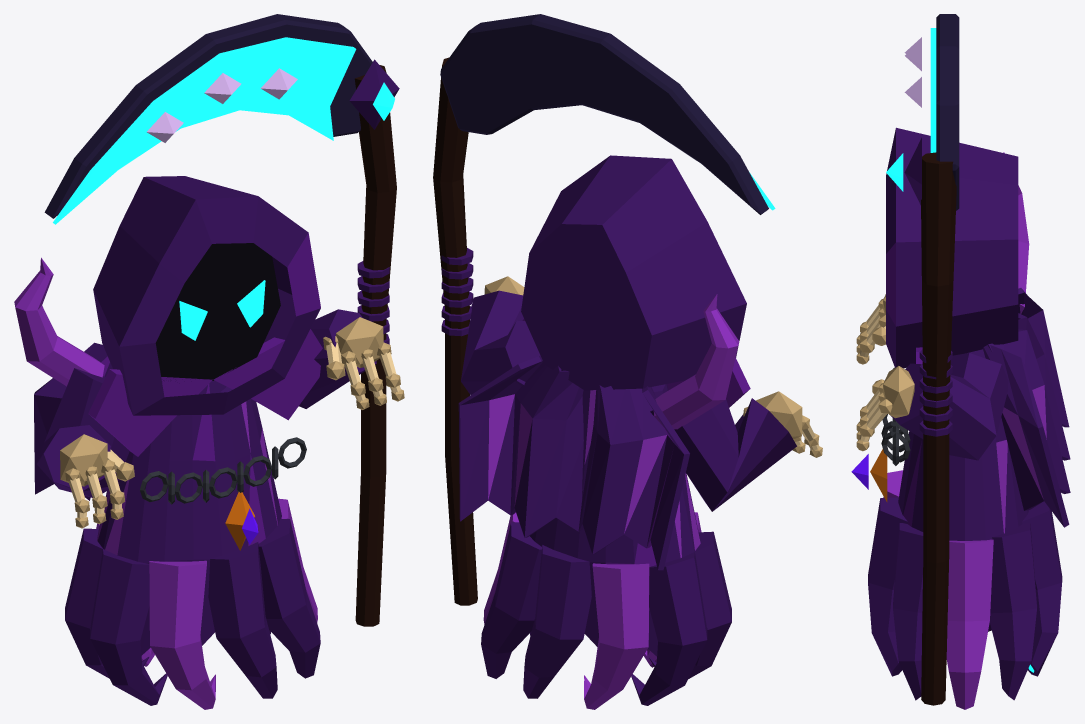
File: WraithReaper.fbx
3 renders of one model, left to right at view 1: azimuth 30°, elevation 25°; view 2: azimuth 150°, elevation 25°; view 3: azimuth 270°, elevation 25°, orthographic.
Visible parts, largest first — view 1: Deep faceted open hood, Spectral draped robe, Cyan scythe cutting edge, Gnarled scythe shaft, Recessed featureless face, Great crescent scythe blade, Ragged robe wisp6, Ragged robe wisp5, Ragged robe wisp7, Ragged robe wisp8, Sleeve-1, Left floating soul curl (+15 smaller); view 2: Deep faceted open hood, Ragged shoulder shawl, Great crescent scythe blade, Gnarled scythe shaft, Sleeve-1, Ragged robe wisp3, Ragged robe wisp4, Ragged robe wisp2, Spectral draped robe, Ragged robe wisp1, Sleeve1, Left floating soul curl (+3 smaller); view 3: Deep faceted open hood, Gnarled scythe shaft, Ragged shoulder shawl, Spectral draped robe, Ragged robe wisp0, Ragged robe wisp1, Sleeve1, Ragged robe wisp8, Ragged robe wisp7, Ragged robe wisp2, Great crescent scythe blade, Bone palm1 (+7 smaller).
Part boxes in pixels (x1=…): Deep faceted open hood: x1=93, y1=176, x2=320, y2=415; Spectral draped robe: x1=97, y1=380, x2=281, y2=655; Cyan scythe cutting edge: x1=53, y1=37, x2=356, y2=224; Gnarled scythe shaft: x1=354, y1=65, x2=396, y2=626; Recessed featureless face: x1=155, y1=243, x2=280, y2=380; Great crescent scythe blade: x1=44, y1=14, x2=372, y2=218; Ragged robe wisp6: x1=149, y1=560, x2=215, y2=709; Ragged robe wisp5: x1=90, y1=549, x2=167, y2=705; Ragged robe wisp7: x1=208, y1=542, x2=277, y2=698; Ragged robe wisp8: x1=258, y1=519, x2=320, y2=678; Sleeve-1: x1=37, y1=368, x2=129, y2=497; Left floating soul curl: x1=14, y1=257, x2=104, y2=386; Deep faceted open hood: x1=521, y1=155, x2=746, y2=390; Ragged shoulder shawl: x1=458, y1=355, x2=689, y2=570; Great crescent scythe blade: x1=440, y1=14, x2=768, y2=214; Gnarled scythe shaft: x1=433, y1=57, x2=477, y2=605; Sleeve-1: x1=650, y1=385, x2=796, y2=511; Ragged robe wisp3: x1=584, y1=563, x2=649, y2=709; Ragged robe wisp4: x1=631, y1=552, x2=707, y2=705; Ragged robe wisp2: x1=523, y1=545, x2=591, y2=698; Spectral draped robe: x1=530, y1=384, x2=700, y2=656; Ragged robe wisp1: x1=481, y1=522, x2=541, y2=678; Sleeve1: x1=461, y1=290, x2=540, y2=394; Left floating soul curl: x1=653, y1=294, x2=739, y2=429; Deep faceted open hood: x1=886, y1=127, x2=1018, y2=368; Gnarled scythe shaft: x1=921, y1=152, x2=956, y2=705; Ragged shoulder shawl: x1=982, y1=288, x2=1070, y2=527; Spectral draped robe: x1=898, y1=349, x2=1028, y2=540; Ragged robe wisp0: x1=946, y1=539, x2=993, y2=709; Ragged robe wisp1: x1=989, y1=523, x2=1037, y2=700; Sleeve1: x1=890, y1=353, x2=1008, y2=460; Ragged robe wisp8: x1=893, y1=523, x2=923, y2=700; Ragged robe wisp7: x1=868, y1=497, x2=907, y2=676; Ragged robe wisp2: x1=1022, y1=501, x2=1062, y2=676; Great crescent scythe blade: x1=936, y1=14, x2=959, y2=210; Bone palm1: x1=883, y1=366, x2=914, y2=418.
Bounding box in the file's own units: 285 × 499 × 152.
